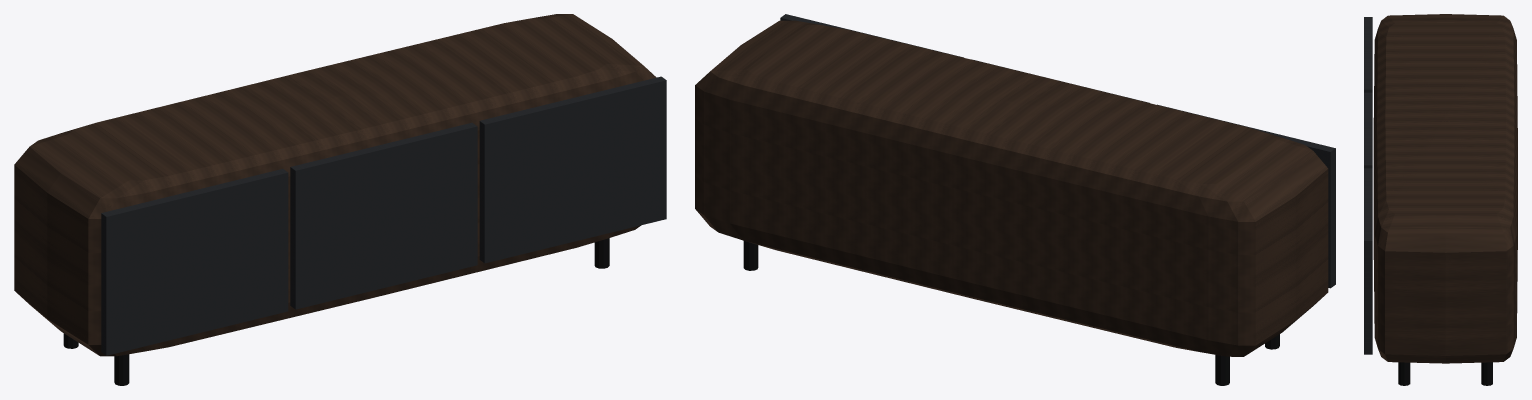
The model's file is tv-console-1600_lod2.glb.
The picture shows the model from 3 angles, left to right: view 1: azimuth 30°, elevation 25°; view 2: azimuth 150°, elevation 25°; view 3: azimuth 270°, elevation 25°; orthographic projection. The views are drawn at different scales.
Parts seen in each view (by area): view 1: body, front_2, front_3, front_1; view 2: body, front_1; view 3: body, front_3, front_2, front_1, leg_2_b, leg_2_a.
Boxes of the visible parts, box(x1,y1,x2,y2) form: body: box(14, 14, 656, 356); front_2: box(290, 122, 477, 309); front_3: box(479, 76, 666, 263); front_1: box(101, 169, 288, 355); body: box(695, 20, 1328, 356); front_1: box(1157, 104, 1335, 288); body: box(1373, 14, 1517, 363); front_3: box(1364, 168, 1372, 354); front_2: box(1364, 92, 1372, 168); front_1: box(1364, 17, 1372, 92); leg_2_b: box(1398, 362, 1410, 385); leg_2_a: box(1481, 362, 1492, 385).
Bounding box in the file's own units: 1.6 × 0.55 × 0.45.
Materials: 3 (3 with a texture image).
